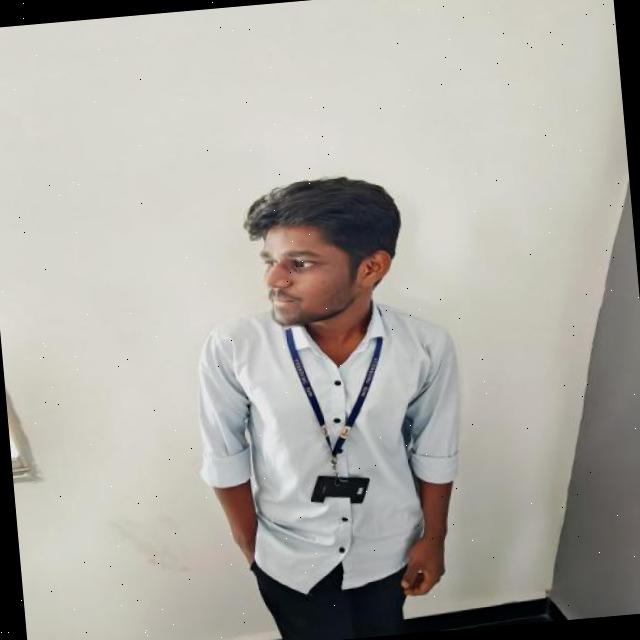Card: (311, 475, 369, 503)
Id strap: (284, 328, 382, 456)
